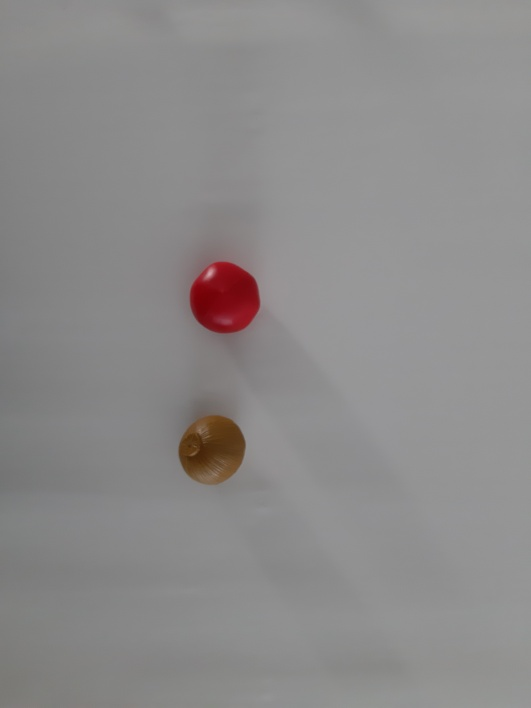onion: (159, 402, 270, 504)
tomato: (172, 253, 283, 349)
